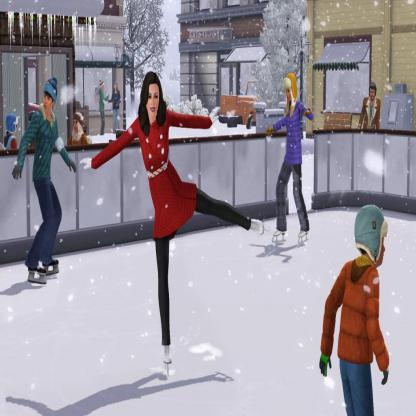face: (148, 84, 160, 116), (376, 229, 386, 264), (44, 93, 53, 111), (286, 88, 292, 102), (371, 88, 376, 100), (74, 119, 78, 131), (115, 84, 117, 90), (103, 85, 105, 91)
